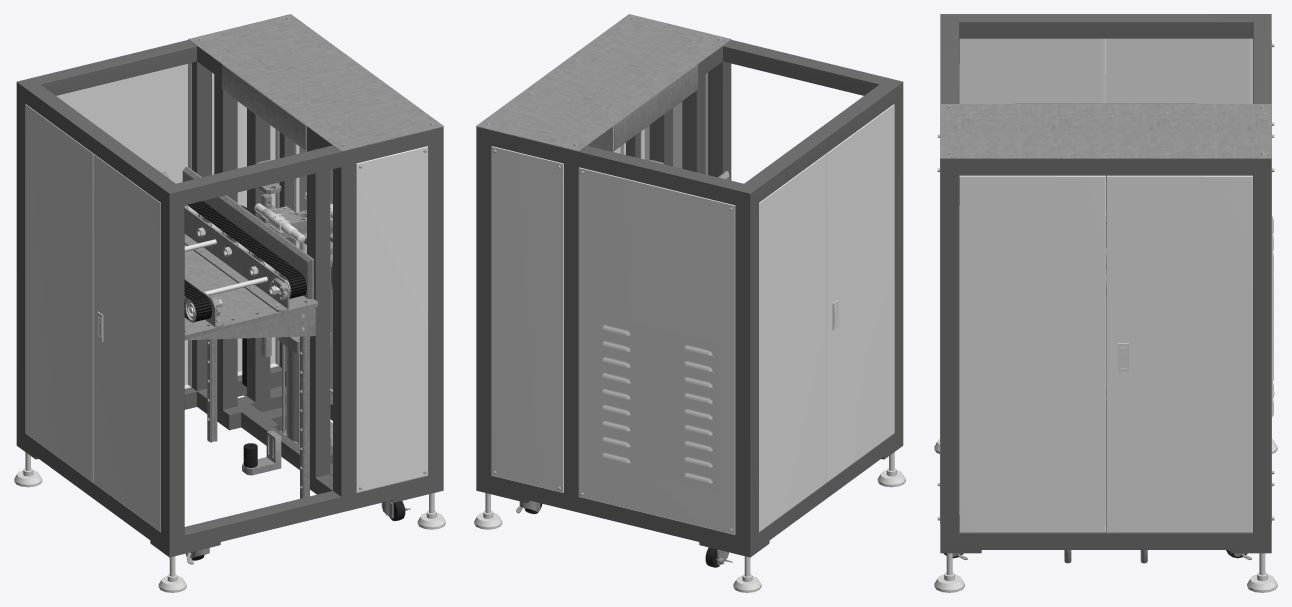
3 views of the same model, side by side, from view 1: azimuth 30°, elevation 25°; view 2: azimuth 150°, elevation 25°; view 3: azimuth 270°, elevation 25° (orthographic). The views are drawn at different scales.
Visible parts, largest first — view 1: 01_panel, 01_frame, 01_sus, 01_plate, 01_belt, 01_chrome, 01_leg, 01_bolt, 01_roler; view 2: 01_panel, 01_frame, 01_plate, 01_leg; view 3: 01_panel, 01_frame, 01_plate, 01_leg, 01_sus.
Boxes of the visible parts, bbox=[...] form: 01_panel: bbox=[25, 63, 428, 531]; 01_frame: bbox=[16, 40, 443, 557]; 01_sus: bbox=[161, 160, 410, 564]; 01_plate: bbox=[188, 14, 443, 151]; 01_belt: bbox=[184, 201, 306, 322]; 01_chrome: bbox=[97, 192, 332, 341]; 01_leg: bbox=[14, 452, 445, 592]; 01_bolt: bbox=[196, 16, 433, 490]; 01_roler: bbox=[184, 205, 291, 321]; 01_panel: bbox=[491, 72, 894, 534]; 01_frame: bbox=[476, 40, 903, 557]; 01_plate: bbox=[476, 14, 731, 151]; 01_leg: bbox=[474, 452, 905, 592]; 01_panel: bbox=[940, 38, 1273, 532]; 01_frame: bbox=[940, 14, 1271, 553]; 01_plate: bbox=[940, 103, 1271, 158]; 01_leg: bbox=[934, 439, 1277, 592]; 01_sus: bbox=[952, 181, 1251, 563].
Bounding box in the file's own units: 0.9301 × 1.26 × 0.9001.
Materials: 8 (2 with a texture image).
